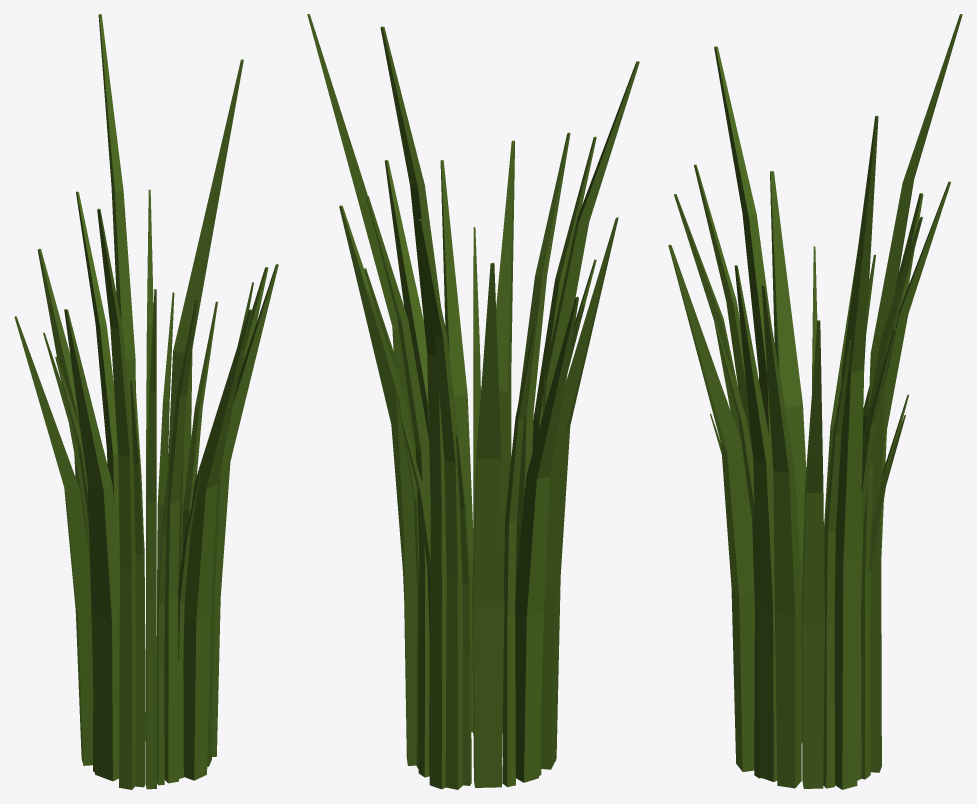
Rendered from grass2.fbx.
3 views of the same model, side by side, from view 1: azimuth 30°, elevation 25°; view 2: azimuth 150°, elevation 25°; view 3: azimuth 270°, elevation 25° (orthographic). The views are drawn at different scales.
Visible parts, largest first — view 1: Cube.024; view 2: Cube.024; view 3: Cube.024.
Boxes of the visible parts, left/top/right/bottom form: Cube.024: left=14, top=14, right=278, bottom=789; Cube.024: left=307, top=14, right=639, bottom=789; Cube.024: left=668, top=14, right=962, bottom=789.
Bounding box in the file's own units: 28.53 × 80.76 × 28.35.
